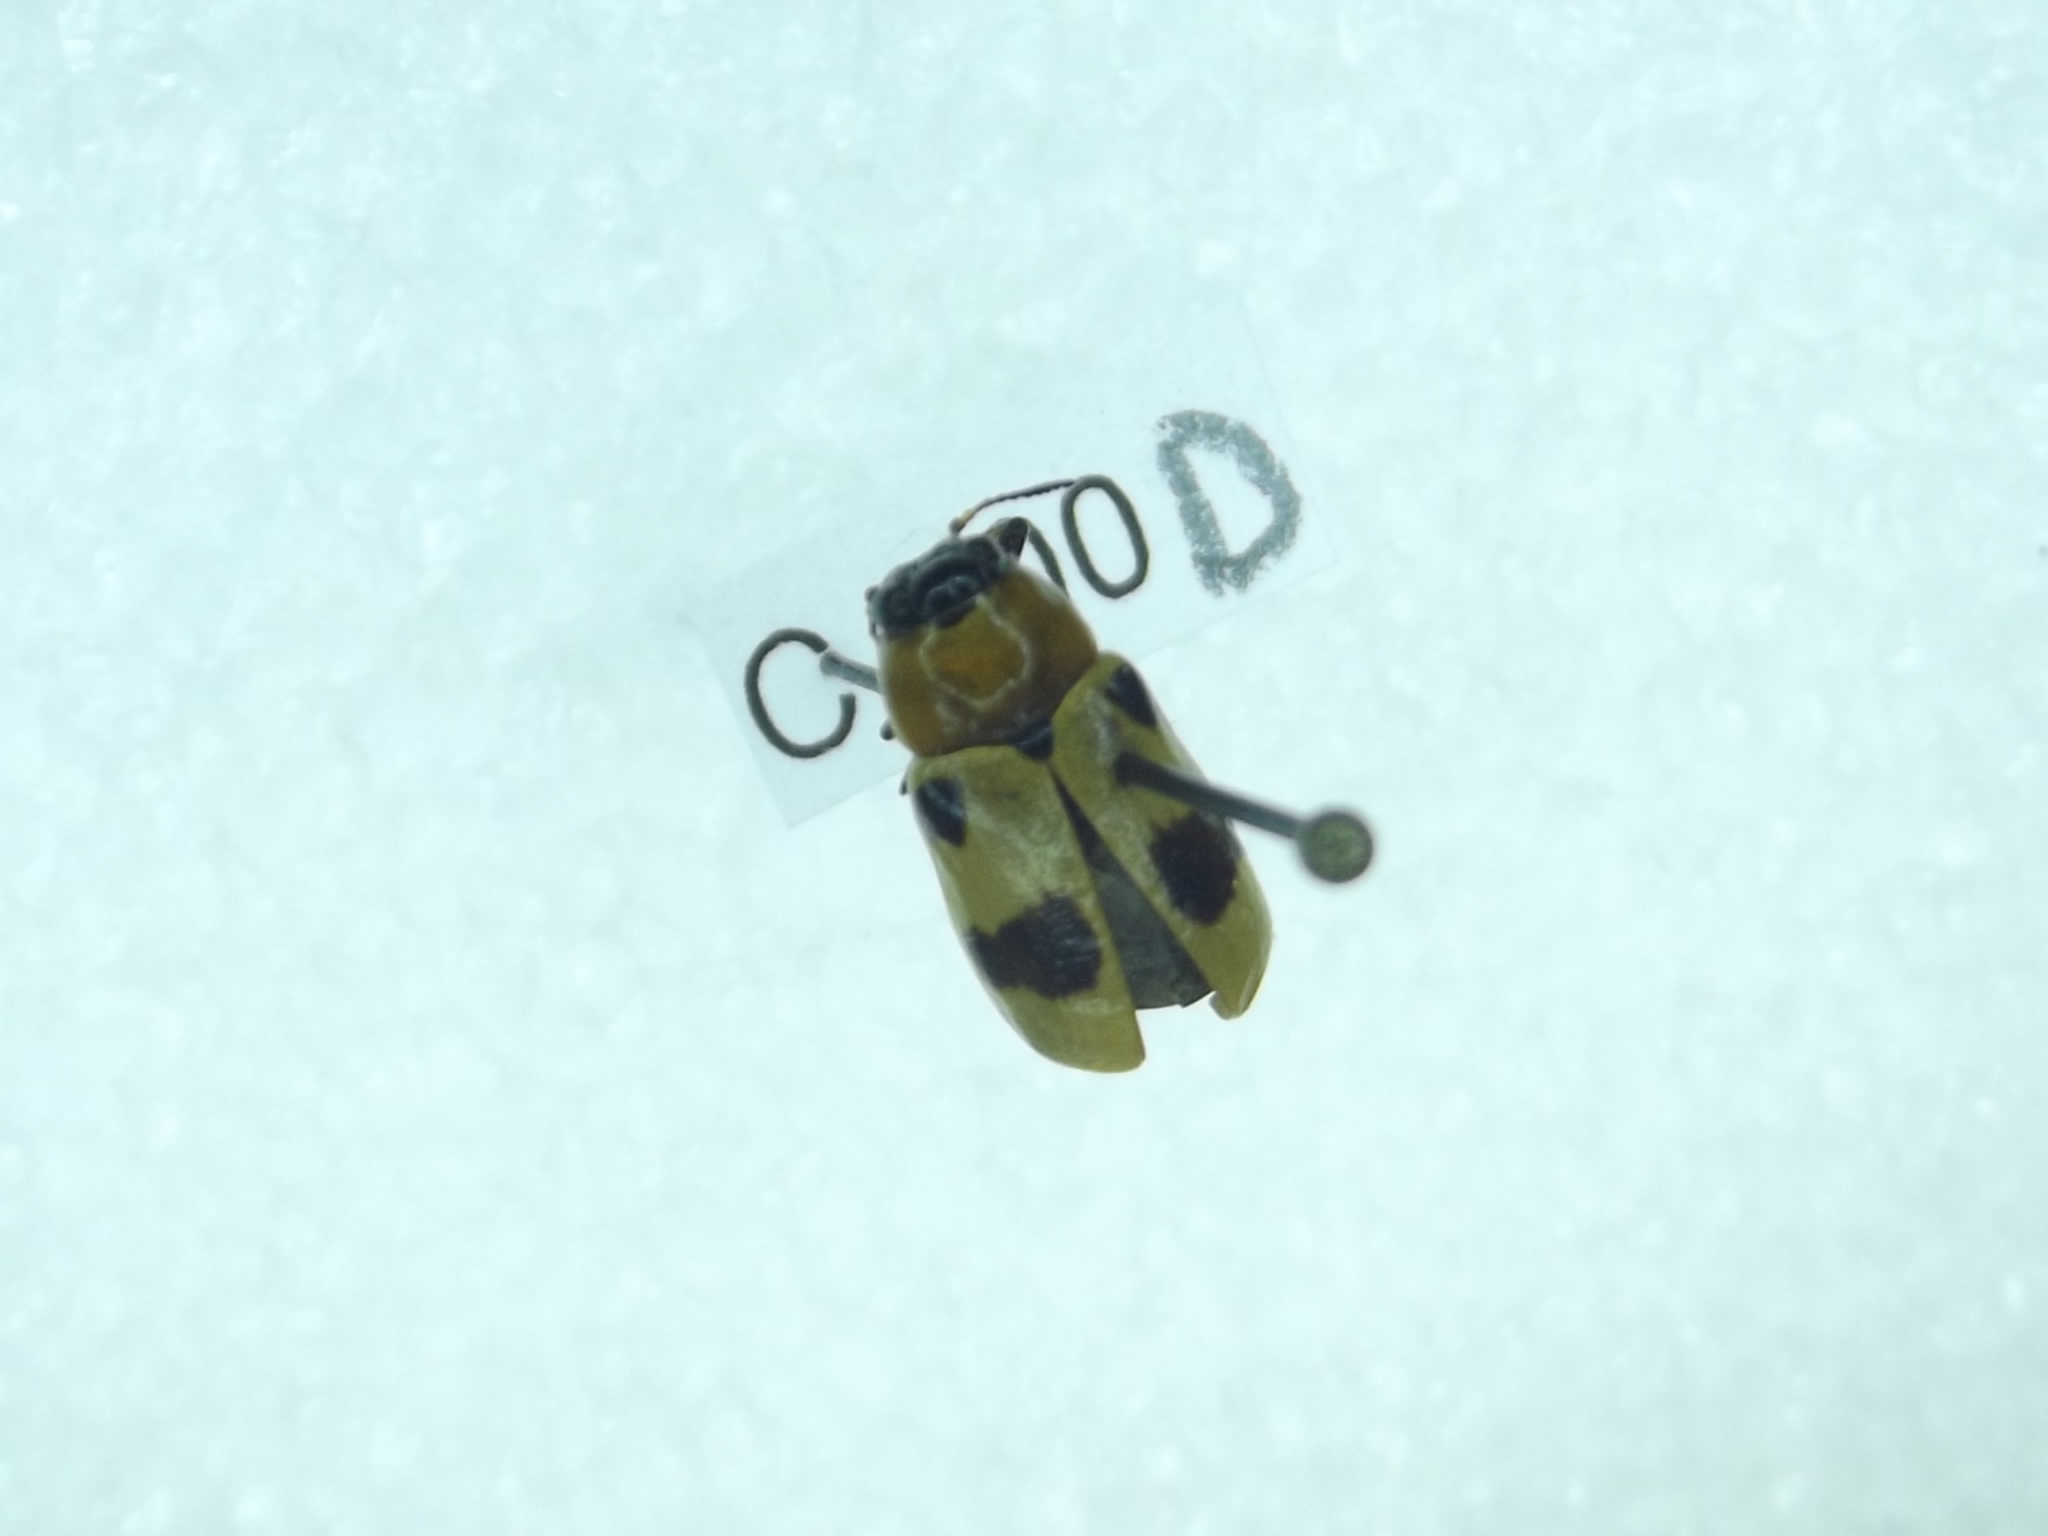Tituboea_macropus: (810, 455, 1301, 1075)
